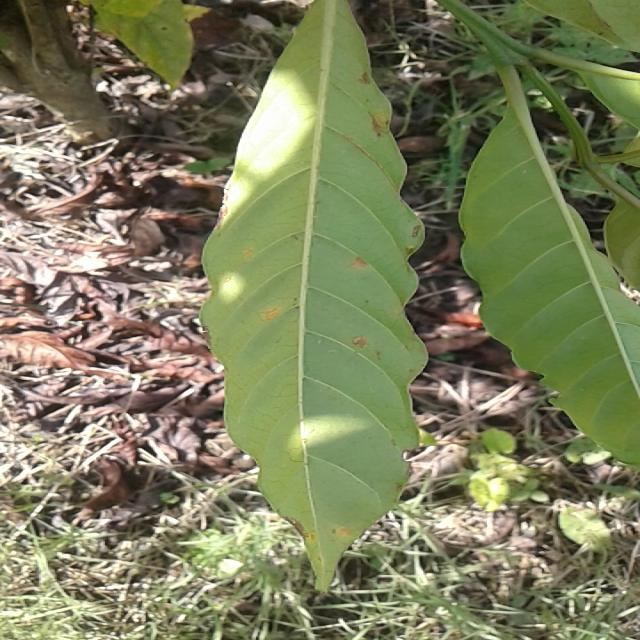Enfermedad-Roya: (199, 0, 428, 594)
